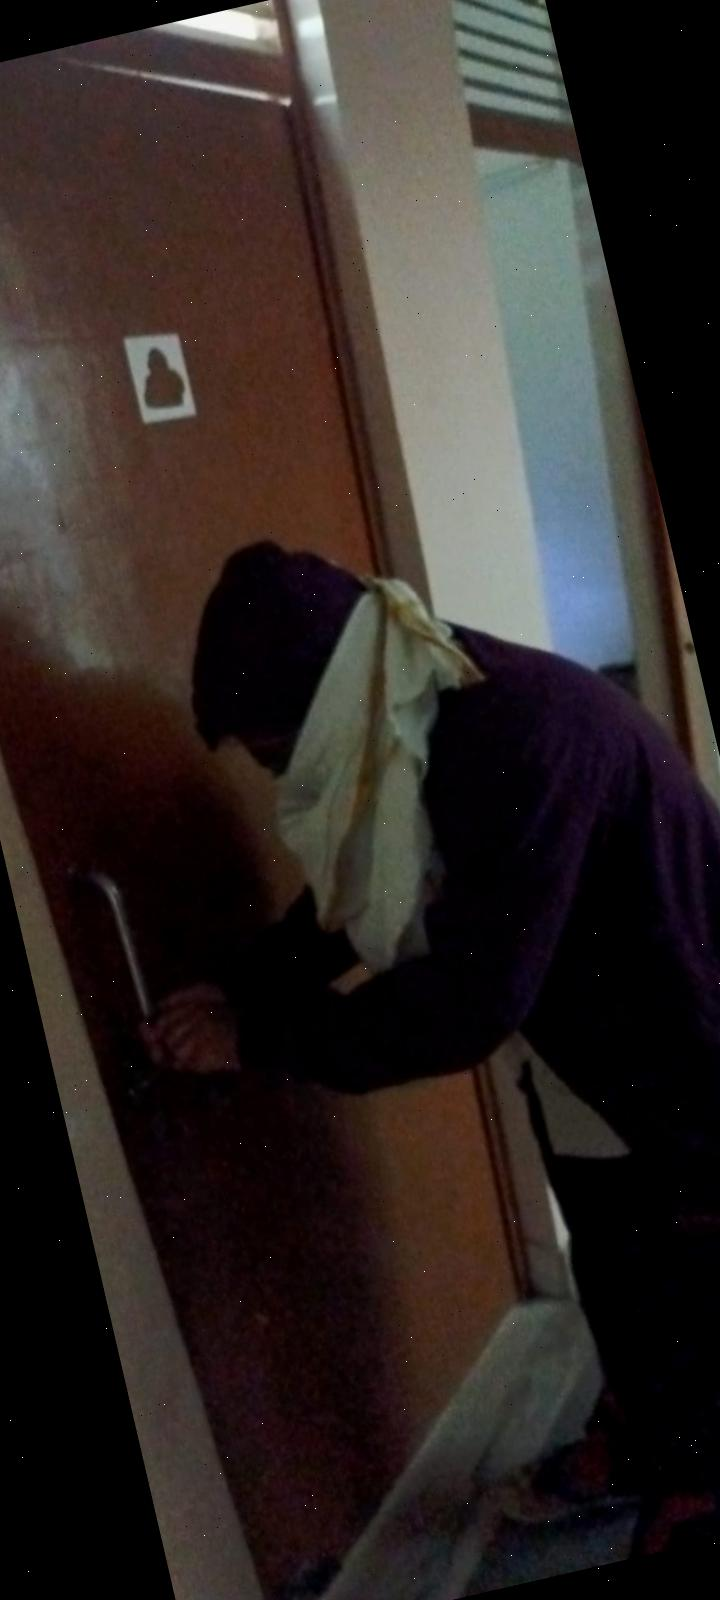suspicion: (0, 431, 720, 1600), (103, 451, 720, 1600)
